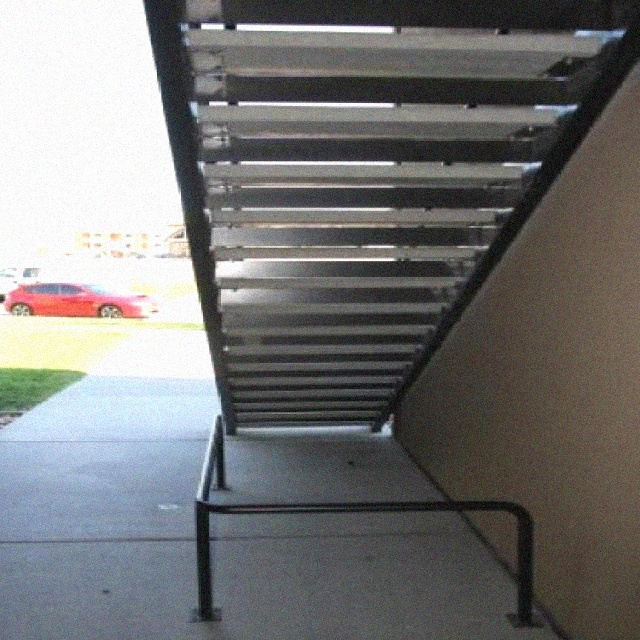stair: (92, 0, 569, 514)
